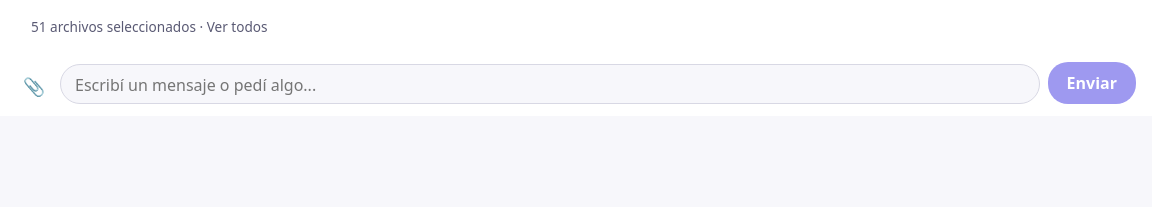
Test: ComposerBar › collapses a large attachment set to a count toggle instead of unbounded chips
Expected: the button "Enviar" is shown, [1048,62,1136,104]
Expected: the text "nota-0.md" is not shown
Click the button "51 archivos seleccionados · Ver todos" at [149, 27], box [16,8,283,46]
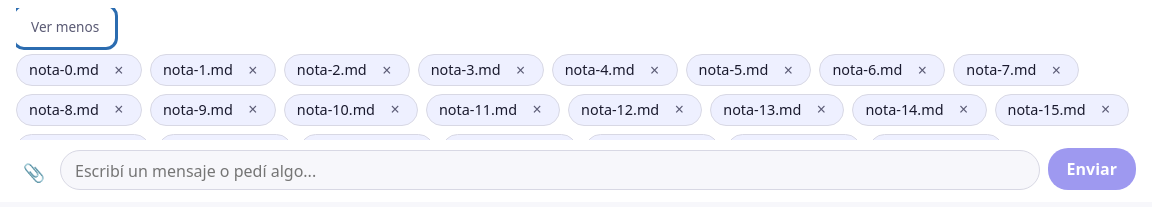
Expected: the button "Ver menos" is shown, [16,8,114,46]
